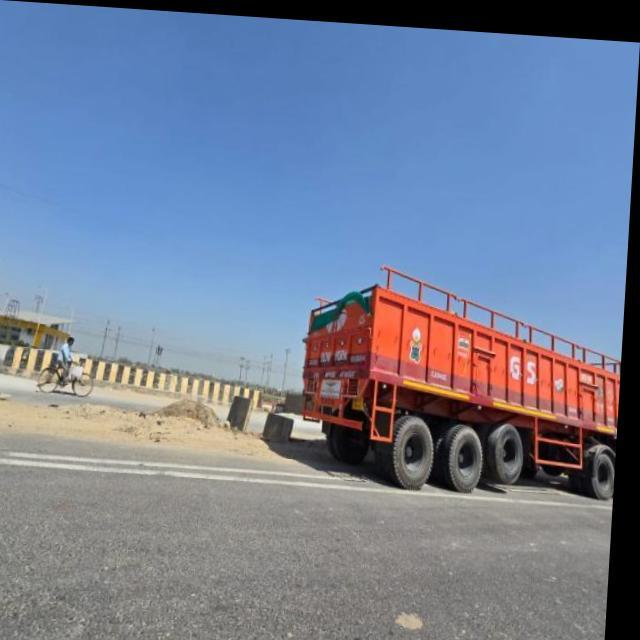uncovered: (296, 265, 628, 521)
